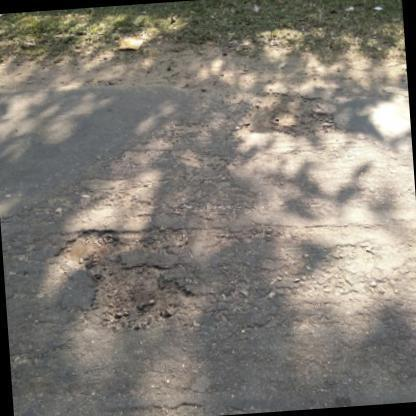pothole: (58, 224, 200, 334), (273, 102, 337, 141)
